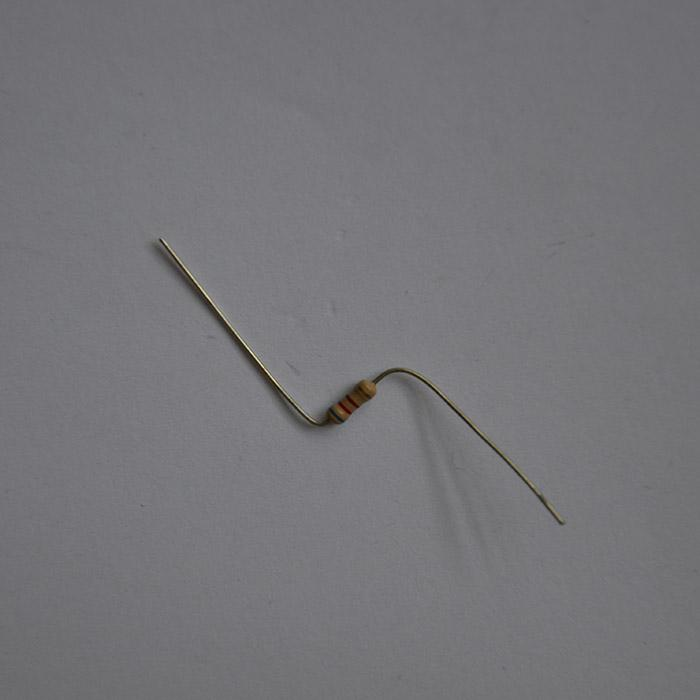resistor: (328, 377, 377, 424)
